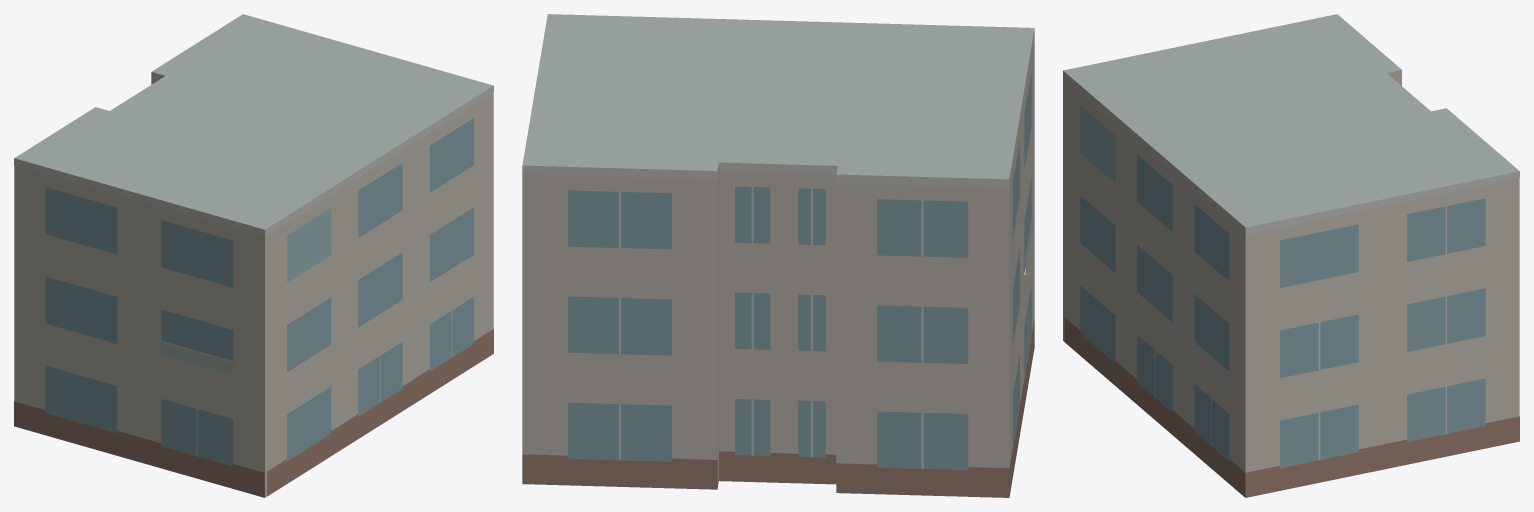
File: survey-upis-33016517.glb
3 views of the same model, side by side, from view 1: azimuth 30°, elevation 25°; view 2: azimuth 150°, elevation 25°; view 3: azimuth 270°, elevation 25° (orthographic). The views are drawn at different scales.
Parts seen in each view (by area): view 1: survey-upis-33016517.tmp; view 2: survey-upis-33016517.tmp; view 3: survey-upis-33016517.tmp.
Part boxes in pixels (left/top/right/bottom): survey-upis-33016517.tmp: left=14, top=14, right=493, bottom=497; survey-upis-33016517.tmp: left=522, top=14, right=1034, bottom=497; survey-upis-33016517.tmp: left=1063, top=14, right=1519, bottom=497.
Bounding box in the file's own units: 15.43 × 9.1 × 13.94.
